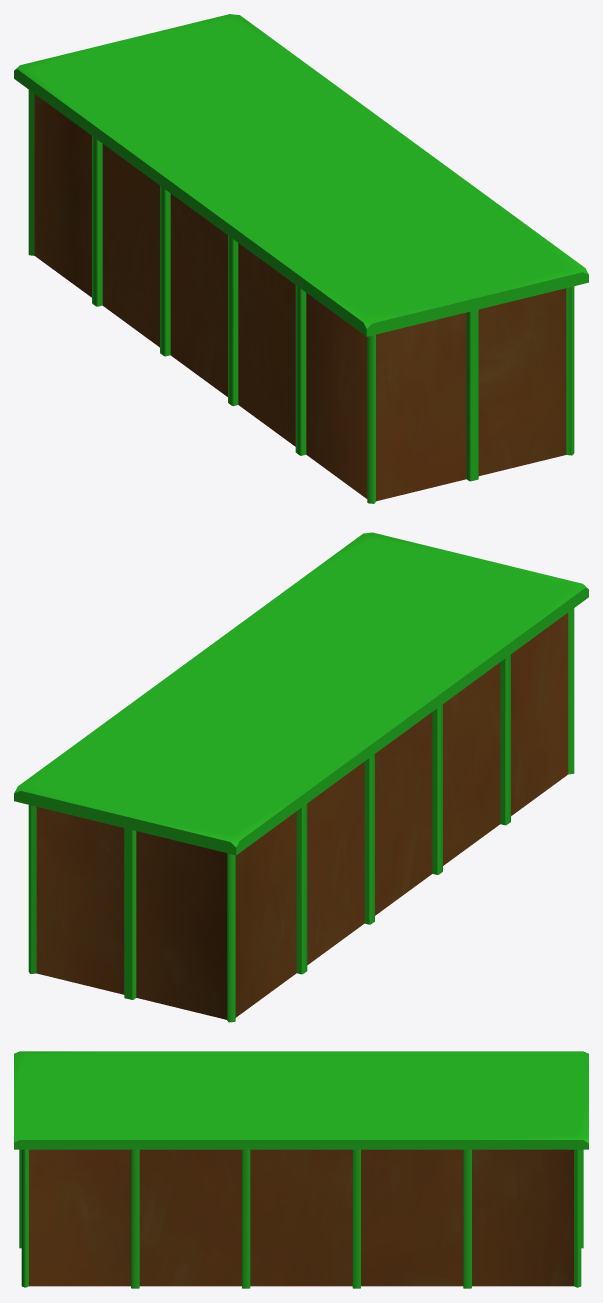
The model's file is House_CounterStraight_v01.fbx.
3 views of the same model, one above another, from view 1: azimuth 30°, elevation 25°; view 2: azimuth 150°, elevation 25°; view 3: azimuth 270°, elevation 25° (orthographic). The views are drawn at different scales.
Visible parts, largest first — view 1: Counter_Straight; view 2: Counter_Straight; view 3: Counter_Straight.
Boxes of the visible parts, x1,y1,x2,y2 form: Counter_Straight: (14, 14, 588, 503); Counter_Straight: (14, 532, 588, 1022); Counter_Straight: (14, 1051, 588, 1288).
Bounding box in the file's own units: 96.97 × 266 × 77.2.
